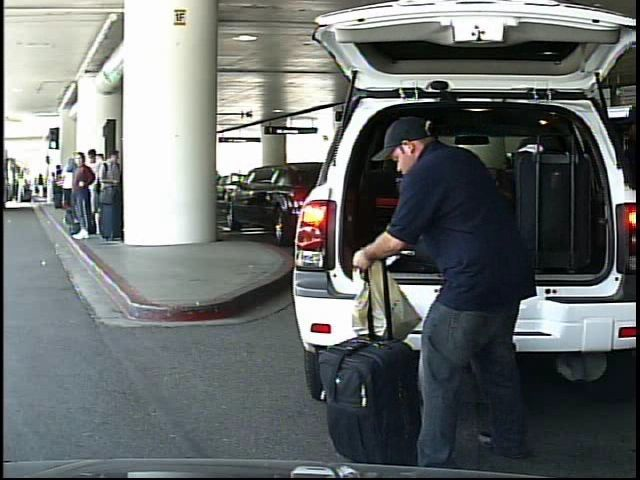person: (366, 108, 545, 474), (17, 174, 28, 205), (35, 172, 46, 201)
